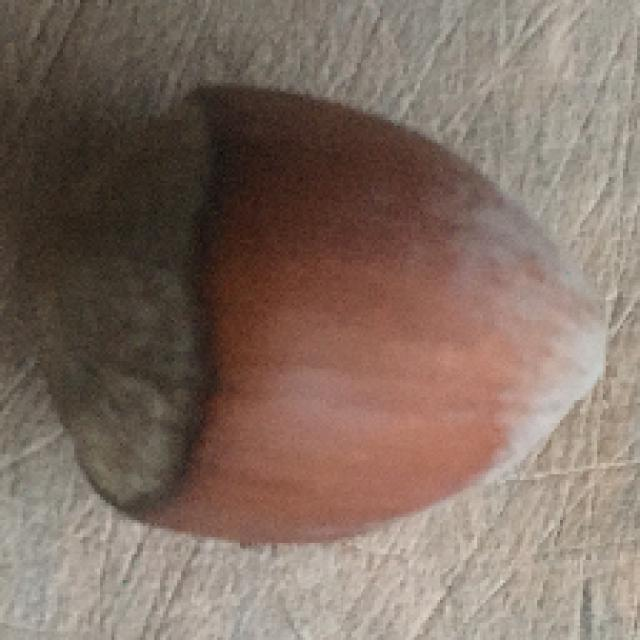QualityHazelnut: (24, 85, 608, 548)
